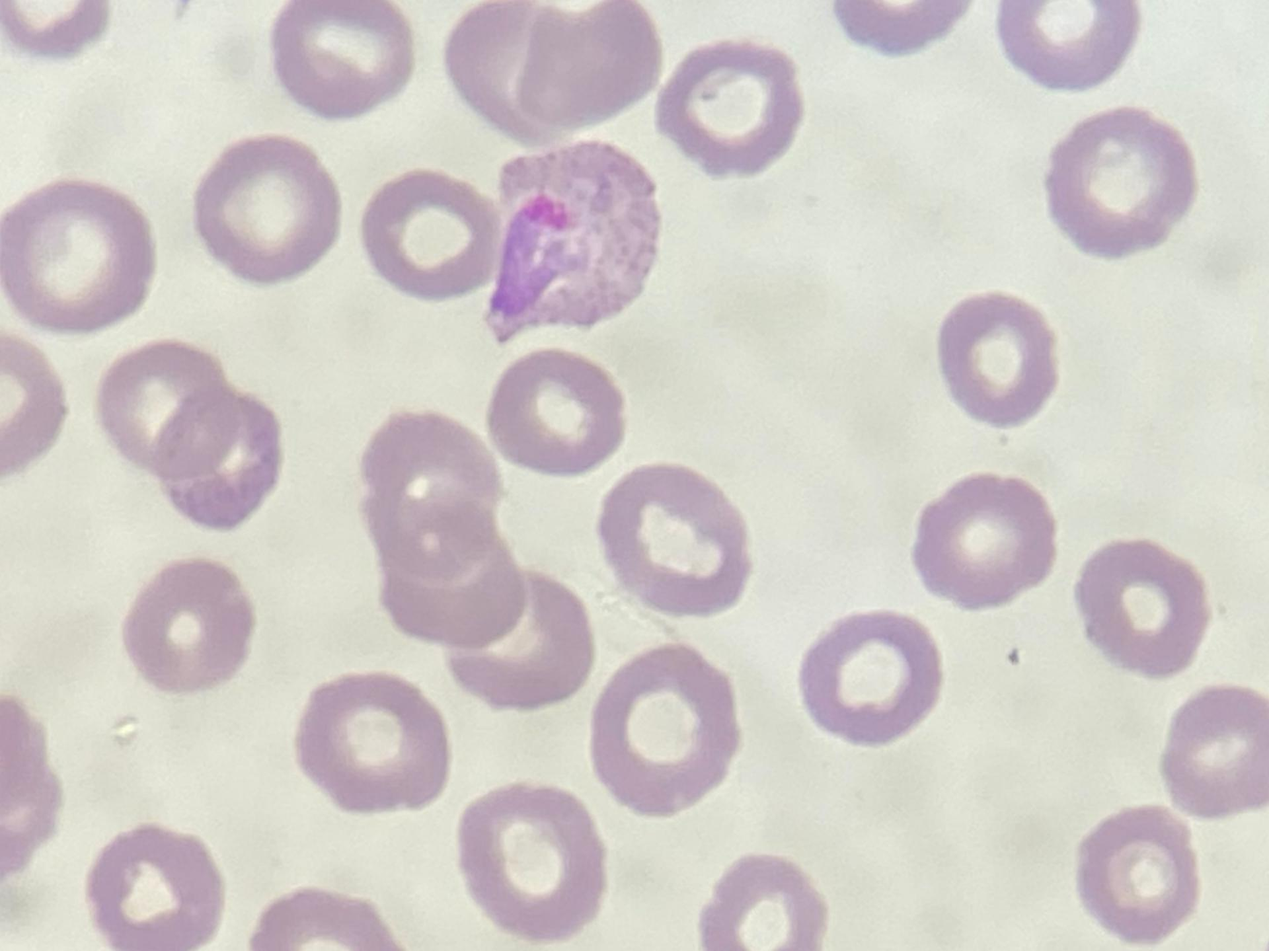Infected: (489, 137, 667, 345)
Uninfected: (360, 411, 529, 644), (446, 2, 658, 143), (589, 646, 738, 812), (456, 783, 607, 938), (2, 177, 153, 331), (595, 463, 746, 615), (1045, 106, 1193, 254), (295, 673, 448, 816), (193, 134, 339, 282), (97, 341, 244, 482), (444, 572, 594, 709), (654, 41, 803, 177), (799, 610, 942, 746), (364, 168, 507, 302), (913, 475, 1056, 609), (1077, 538, 1210, 675), (156, 388, 281, 533), (123, 559, 256, 694), (488, 348, 624, 475), (87, 826, 223, 949), (270, 0, 411, 118), (937, 291, 1060, 425), (1075, 807, 1198, 940), (1161, 684, 1269, 816), (1002, 1, 1137, 88)
